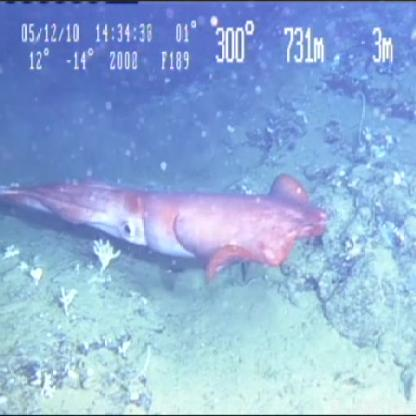Bio: (1, 168, 331, 286), (89, 237, 124, 276), (56, 283, 80, 318)
